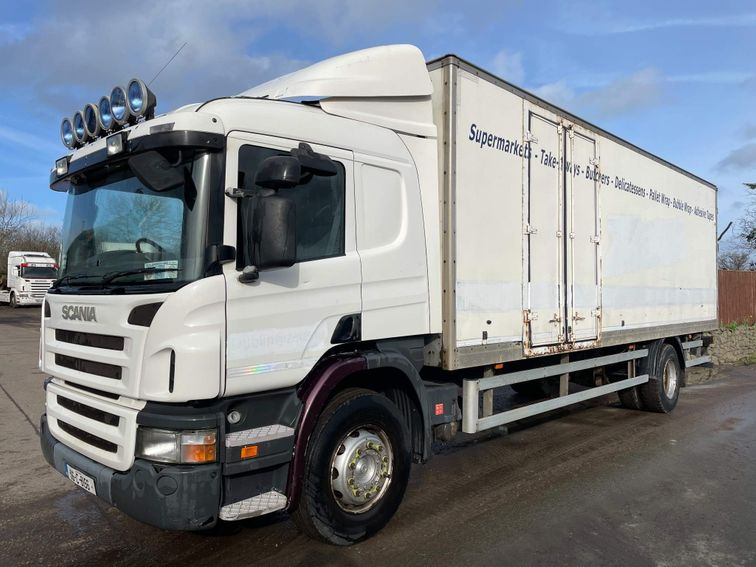Semi: (36, 41, 718, 546), (6, 248, 58, 309)
